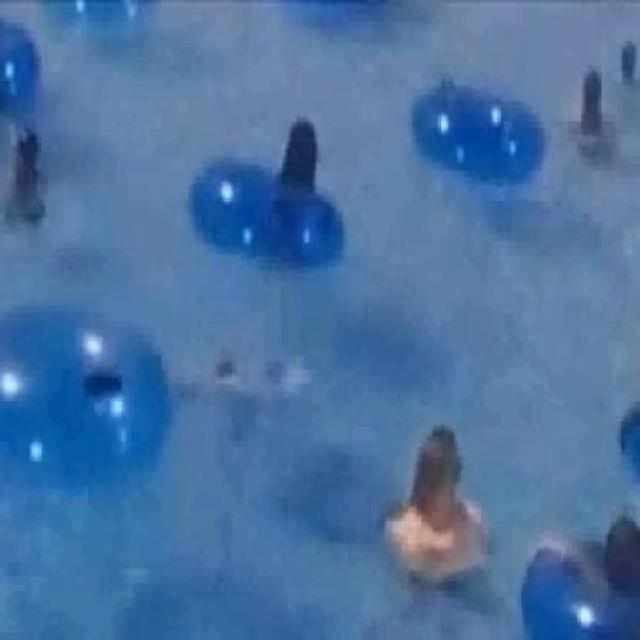drowning: (392, 429, 493, 580), (565, 65, 613, 167), (3, 125, 46, 226), (609, 39, 640, 123)
